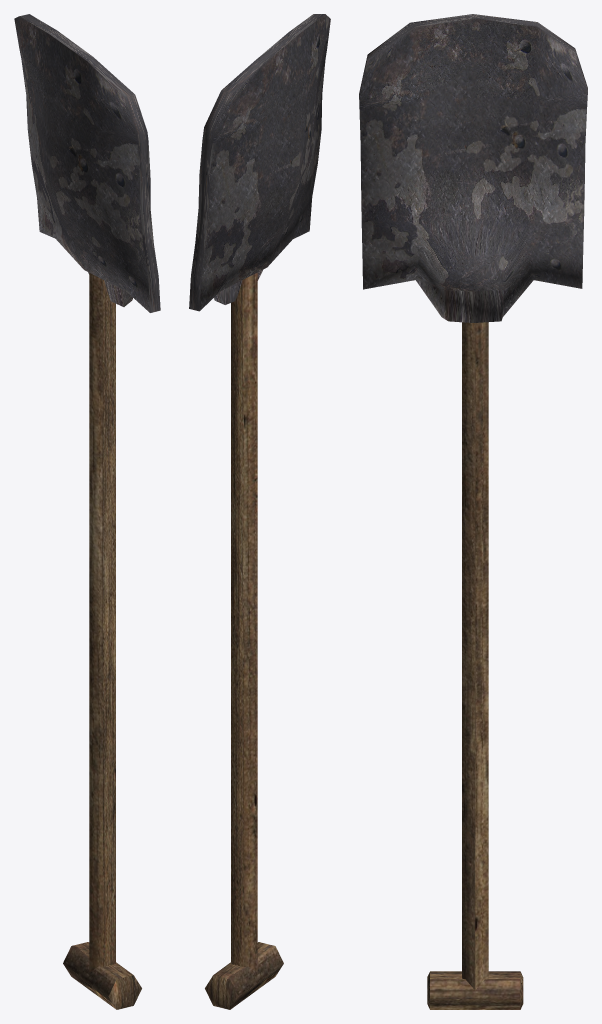
File: spade.fbx
3 views of the same model, side by side, from view 1: azimuth 30°, elevation 25°; view 2: azimuth 150°, elevation 25°; view 3: azimuth 270°, elevation 25° (orthographic).
Visible parts, largest first — view 1: metal part, wooden part; view 2: metal part, wooden part; view 3: metal part, wooden part.
Boxes of the visible parts, left/top/right/bottom form: metal part: left=14, top=14, right=160, bottom=312; wooden part: left=63, top=273, right=141, bottom=1009; metal part: left=189, top=14, right=330, bottom=311; wooden part: left=205, top=272, right=283, bottom=1009; metal part: left=359, top=14, right=587, bottom=322; wooden part: left=427, top=322, right=523, bottom=1009.
Bounding box in the file's own units: 69.9 × 792 × 170.
Materials: 2 (2 with a texture image).
